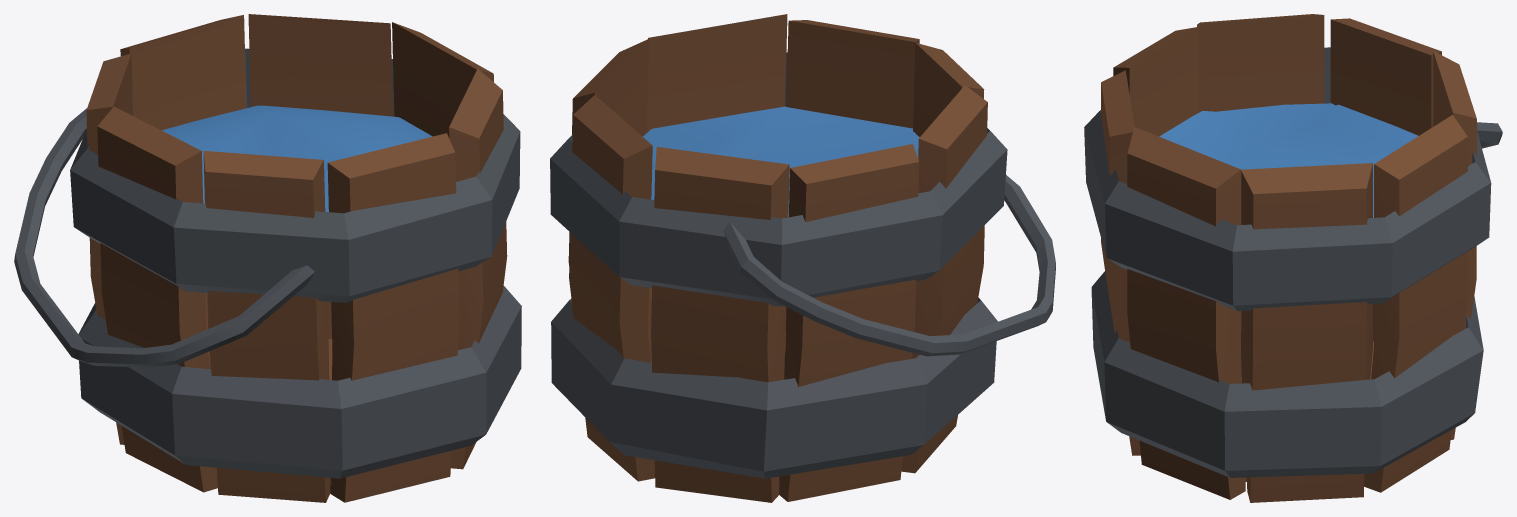
Rendered from Bucket_3.fbx.
3 renders of one model, left to right at view 1: azimuth 30°, elevation 25°; view 2: azimuth 150°, elevation 25°; view 3: azimuth 270°, elevation 25°, orthographic. The views are drawn at different scales.
Visible parts, largest first — view 1: Bucket_3; view 2: Bucket_3; view 3: Bucket_3.
Boxes of the visible parts, box(x1,y1,x2,y2) form: Bucket_3: box(14, 14, 521, 502); Bucket_3: box(550, 14, 1055, 502); Bucket_3: box(1084, 14, 1502, 502).
Size of the model in its own units: 49.31 by 37.91 by 42.72.
